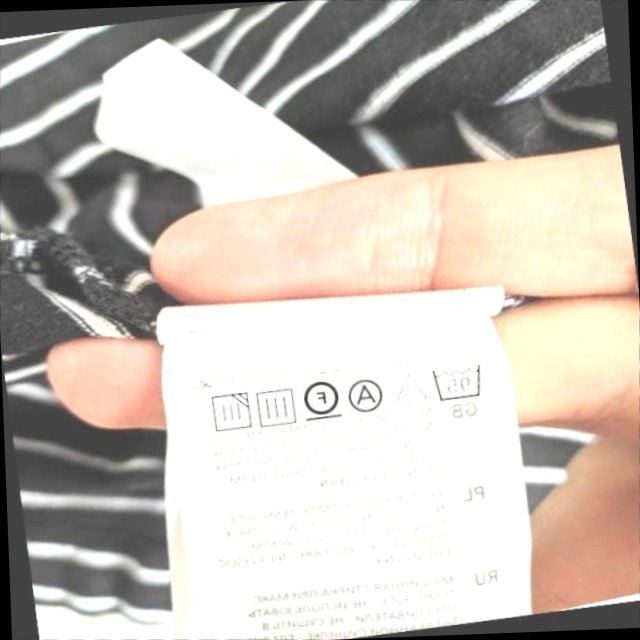95C: (426, 358, 488, 406)
bleach: (390, 365, 431, 412)
drip_dry: (251, 382, 301, 431)
drip_dry_in_shade: (203, 387, 255, 438)
dry_clean: (345, 374, 389, 416)
dry_clean_petrol_only: (298, 373, 344, 424)
